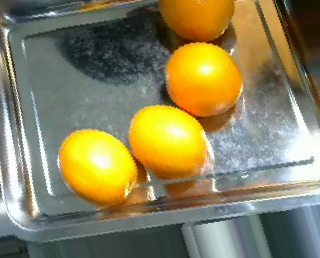Orange: (56, 127, 139, 206), (163, 42, 244, 117), (128, 104, 209, 178)
